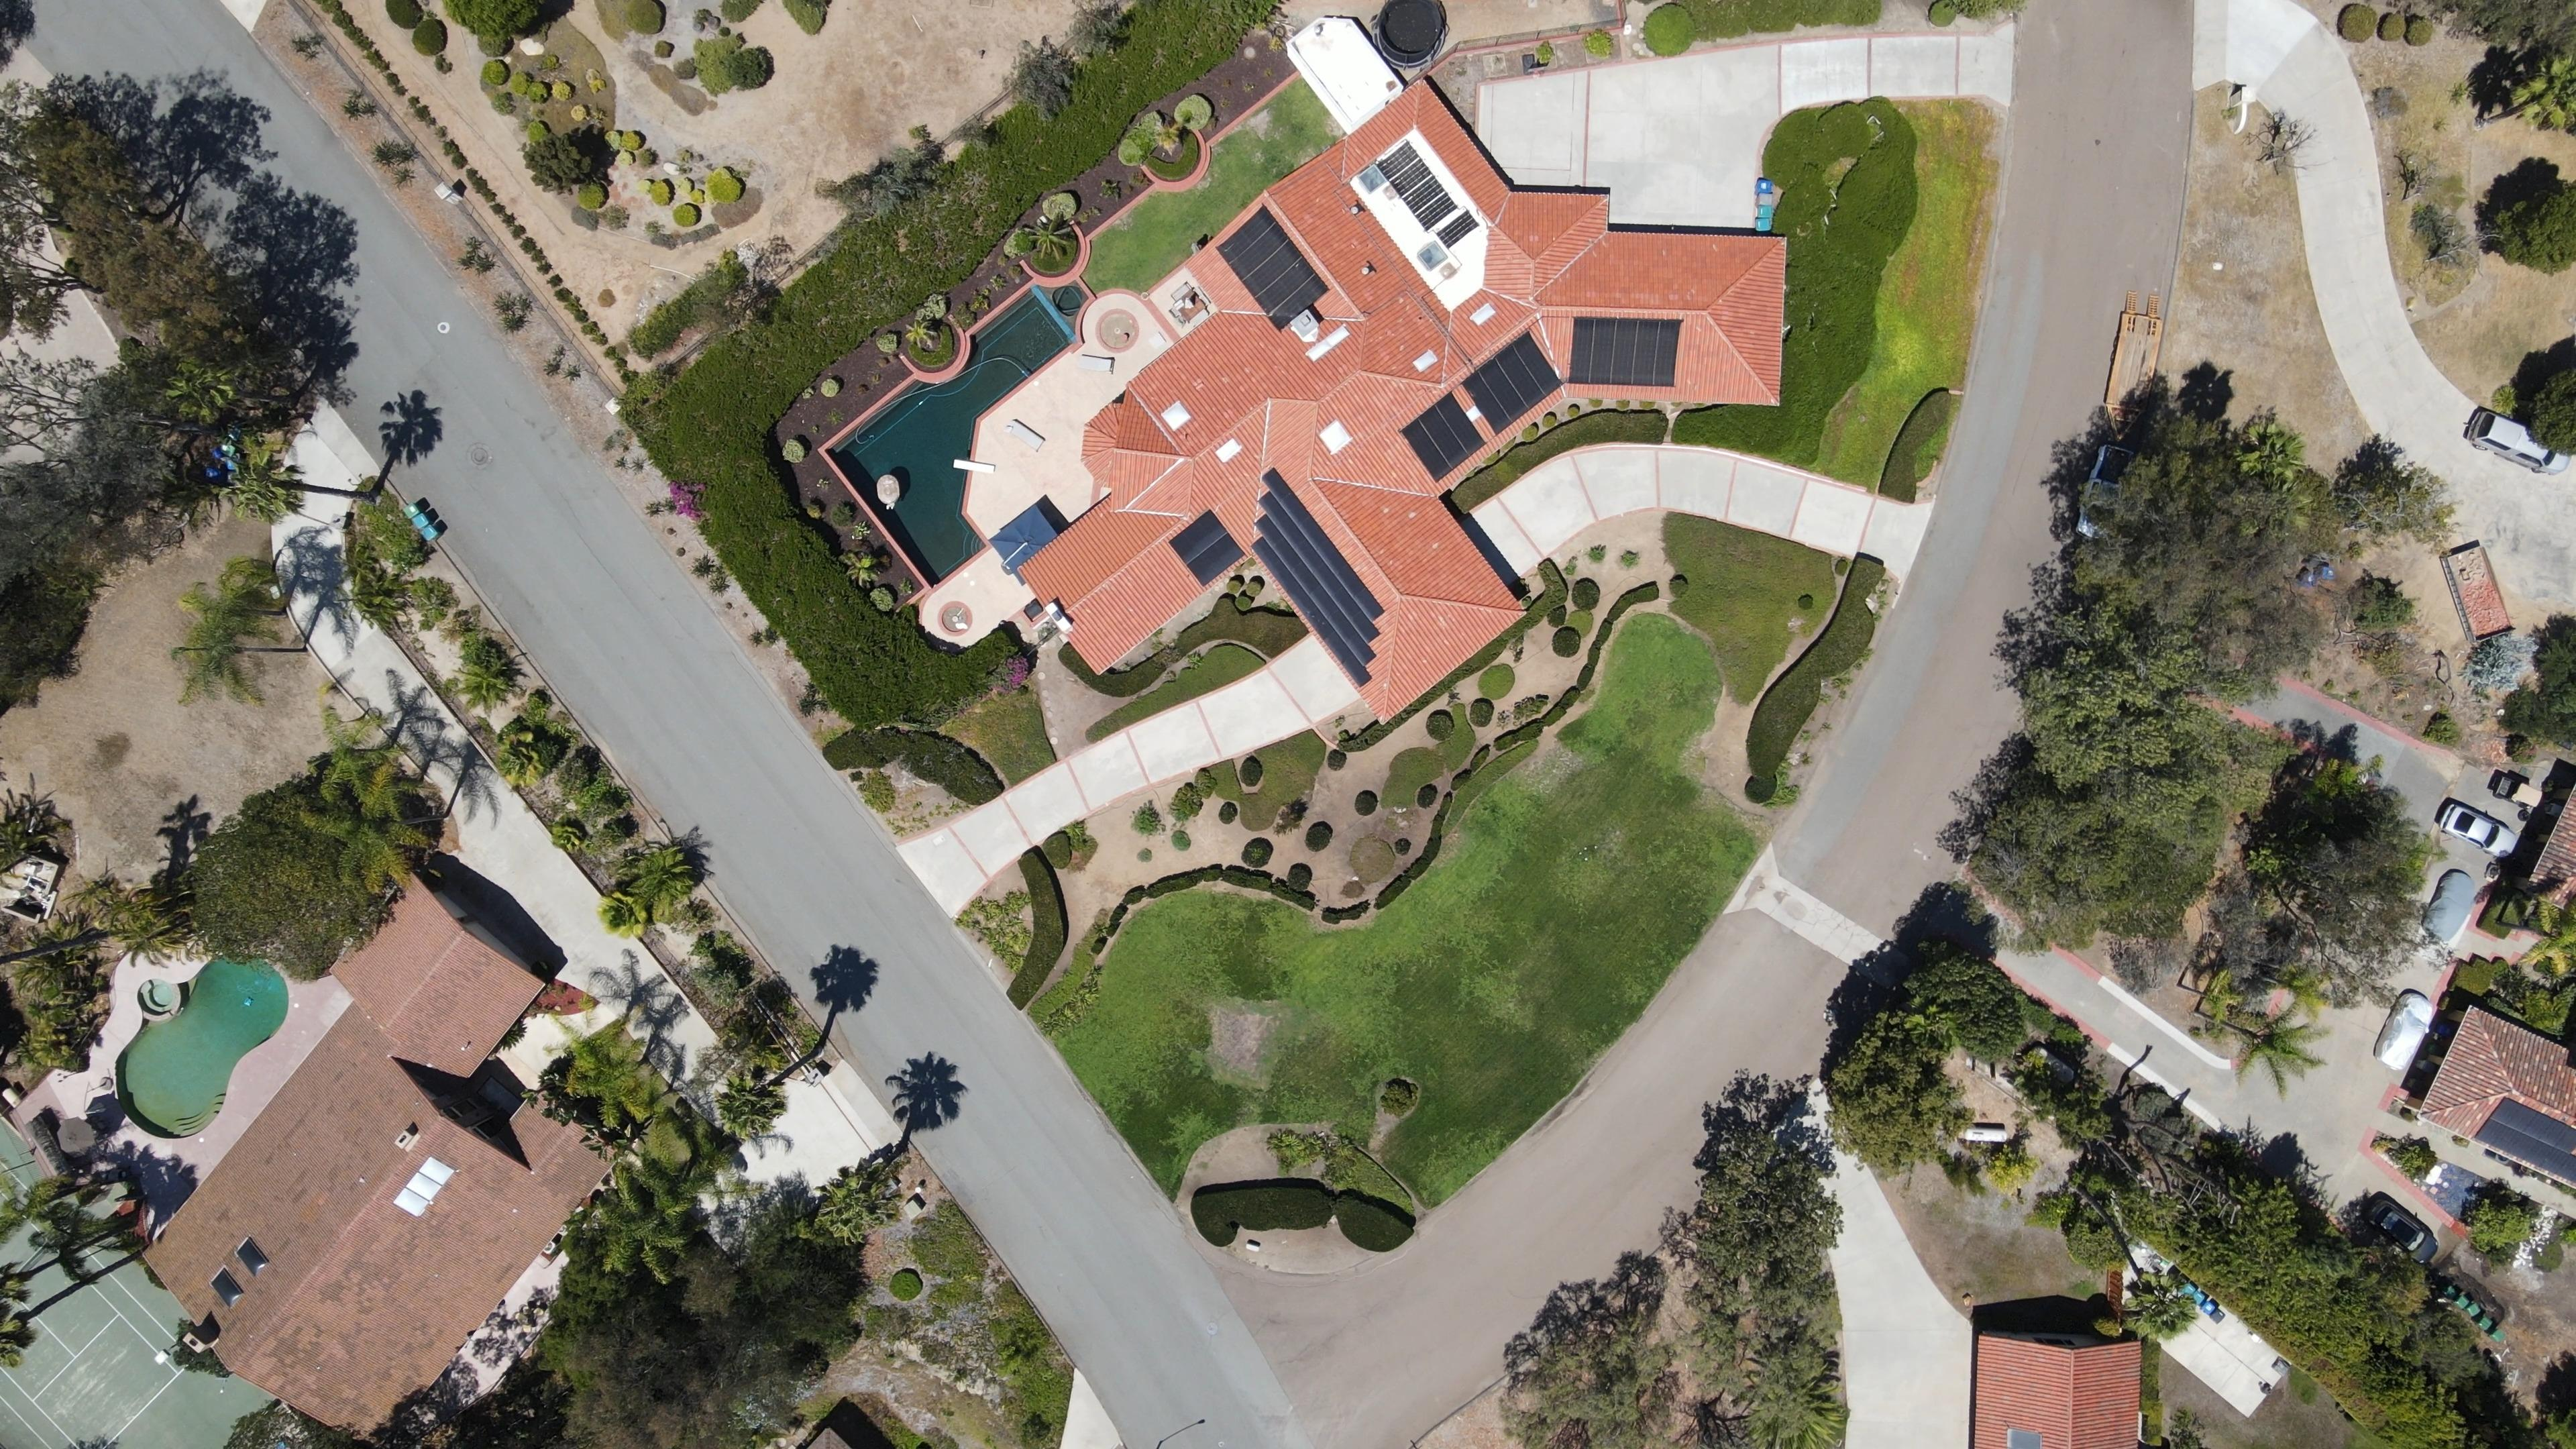panel: (1250, 468, 1385, 688), (1216, 204, 1330, 331), (1460, 329, 1562, 437), (1400, 392, 1488, 483), (1569, 316, 1681, 386), (1168, 508, 1245, 587), (1436, 209, 1479, 250), (1376, 141, 1419, 180), (1389, 158, 1432, 197), (1415, 192, 1458, 231), (1403, 176, 1446, 215)
